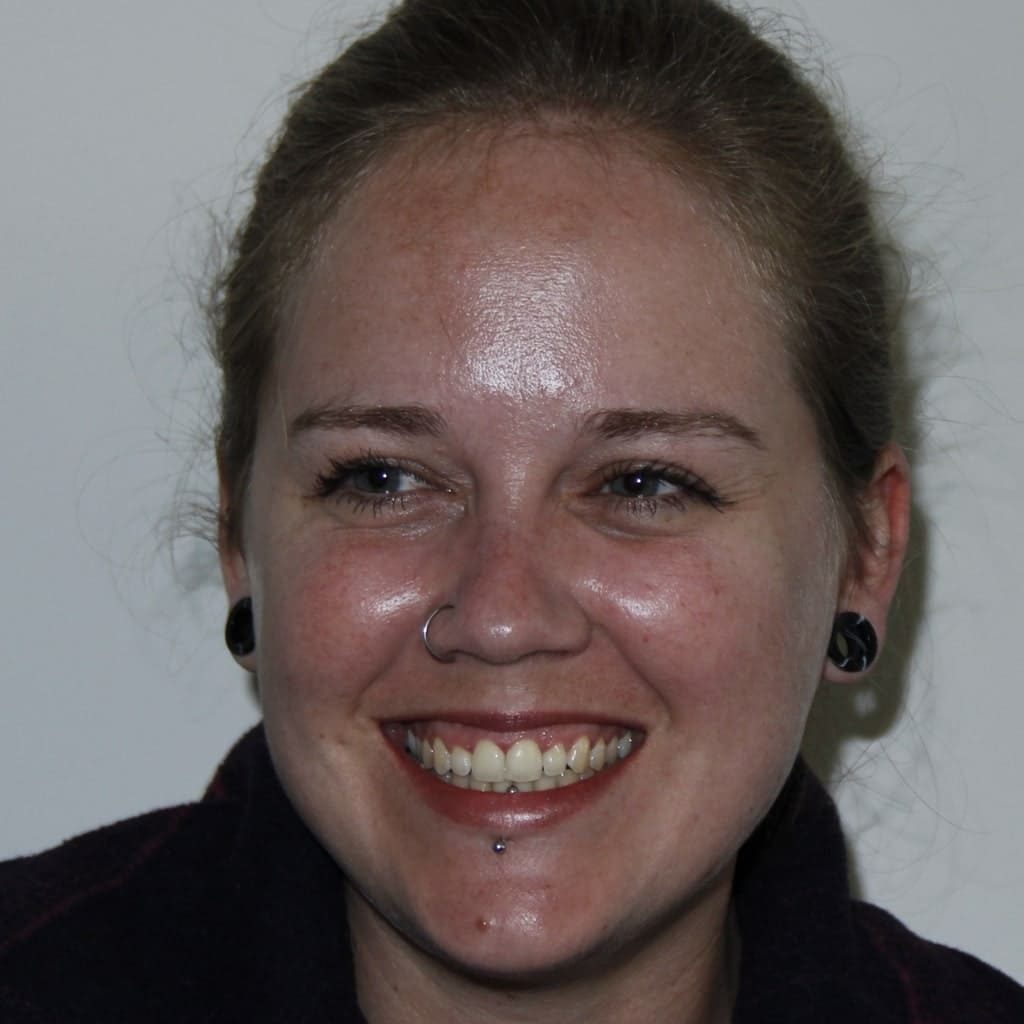without_mask: (270, 158, 840, 965)
